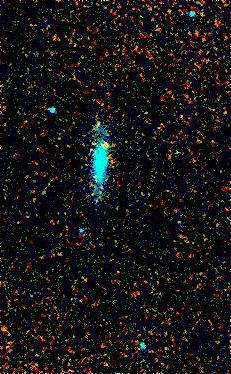star: (94, 125, 124, 155)
